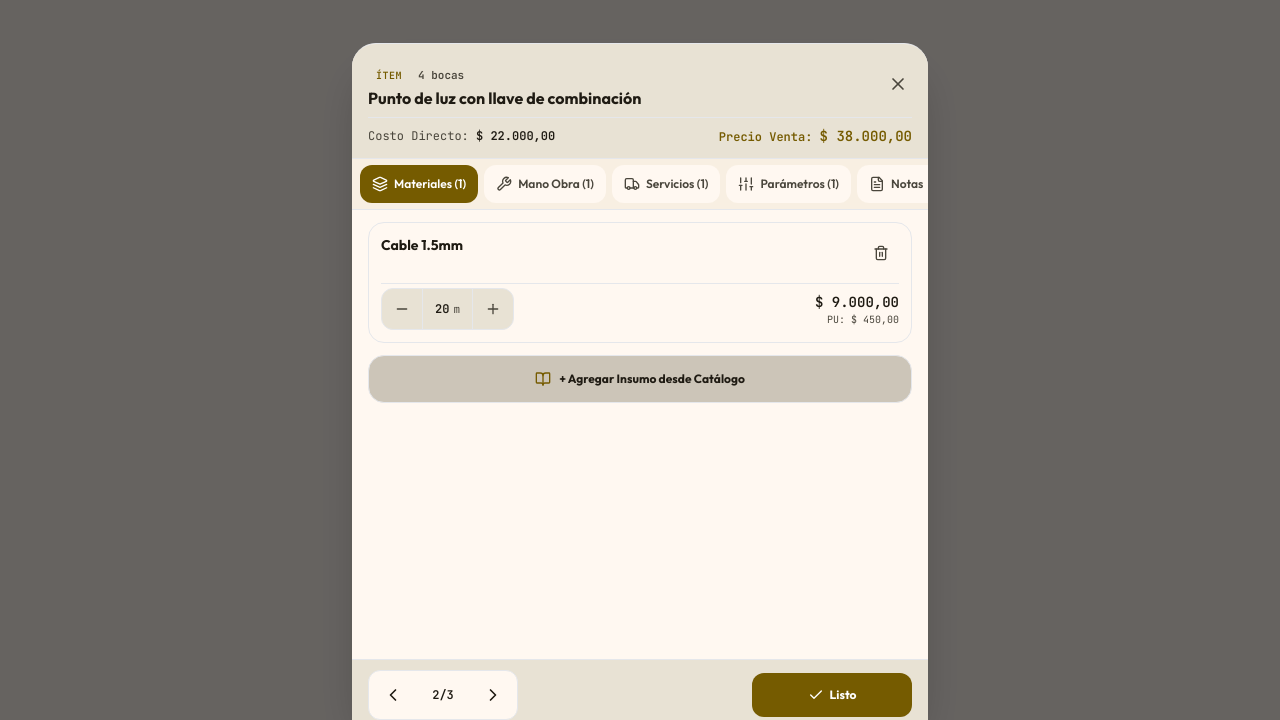
Scenario: MobileItemDetailSheet › permite alternar entre pestañas y muestra el contenido de cada una
Expected: the heading "Cable 1.5mm" is shown, [381,236,463,254]
Cambiar a Mano de Obra
Click the button "Mano Obra (1)" at [545, 184], box [484,165,606,203]
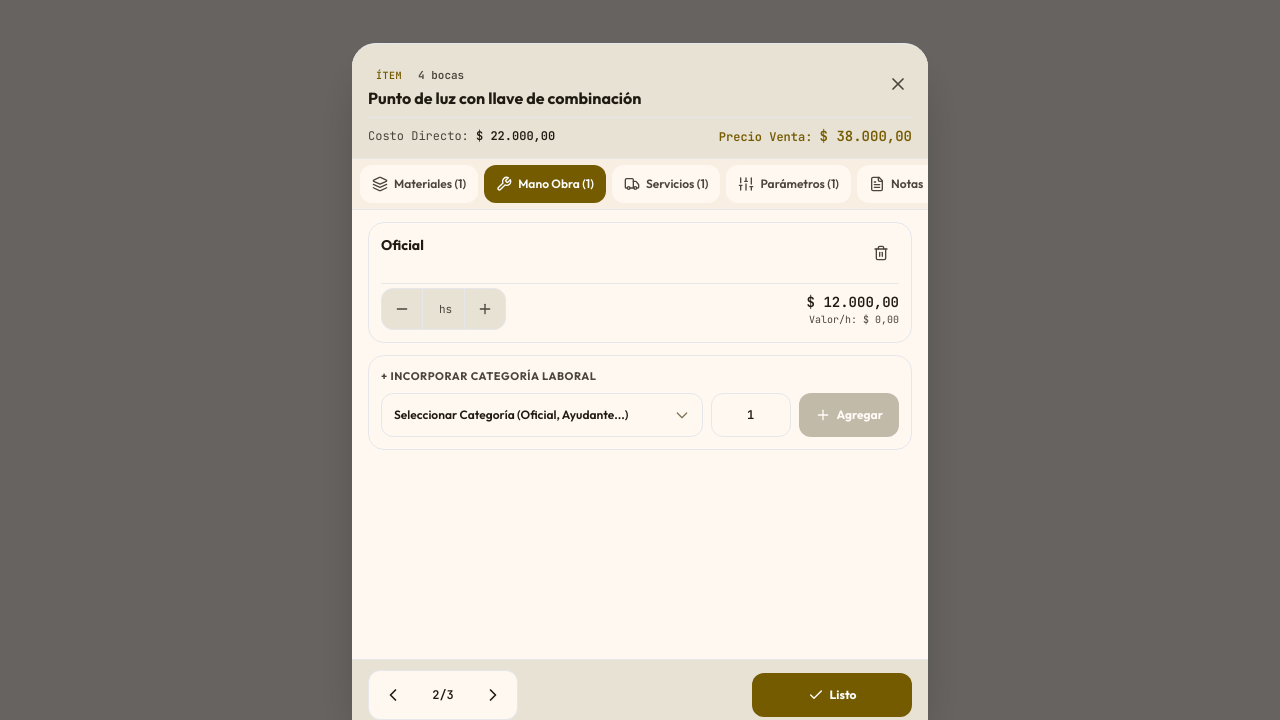
Result: the heading "Oficial" is shown at [381,236,424,254]
Cambiar a Servicios
Click the button "Servicios (1)" at [666, 184], box [612,165,720,203]
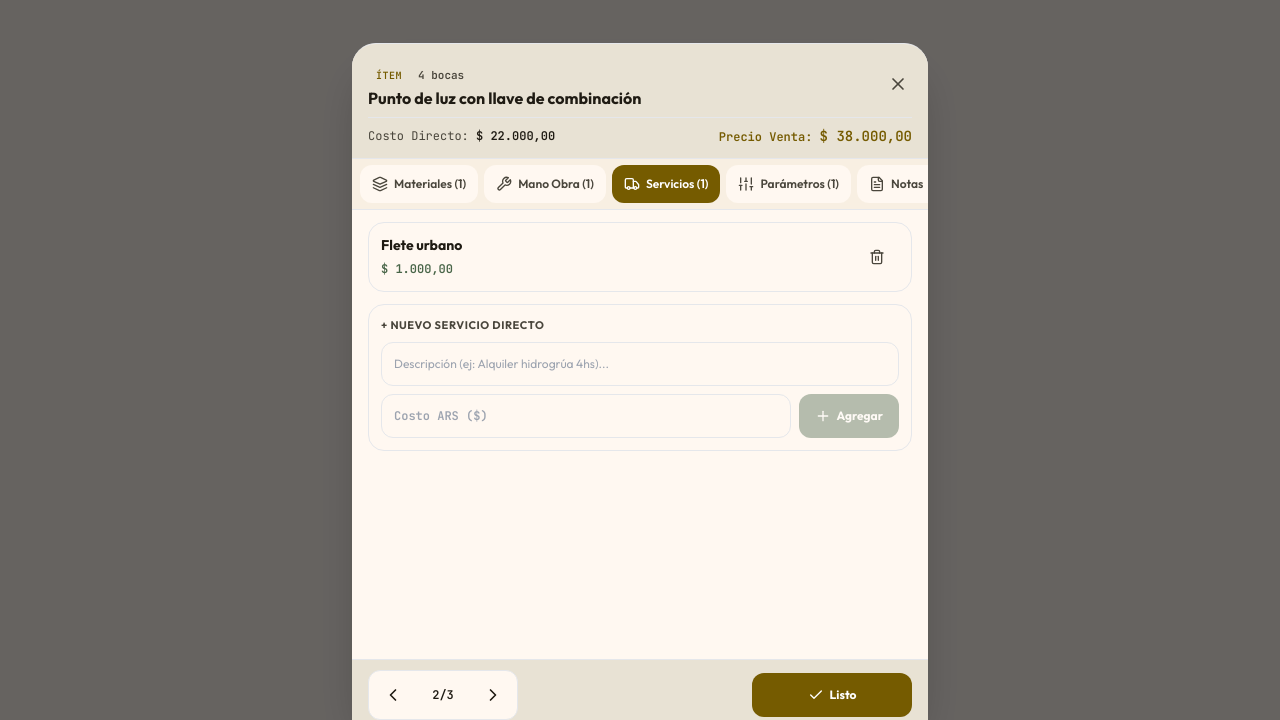
Result: the heading "Flete urbano" is shown at [381,236,462,254]
Cambiar a Parámetros
Click the button "Parámetros (1)" at [789, 184], box [726,165,851,203]
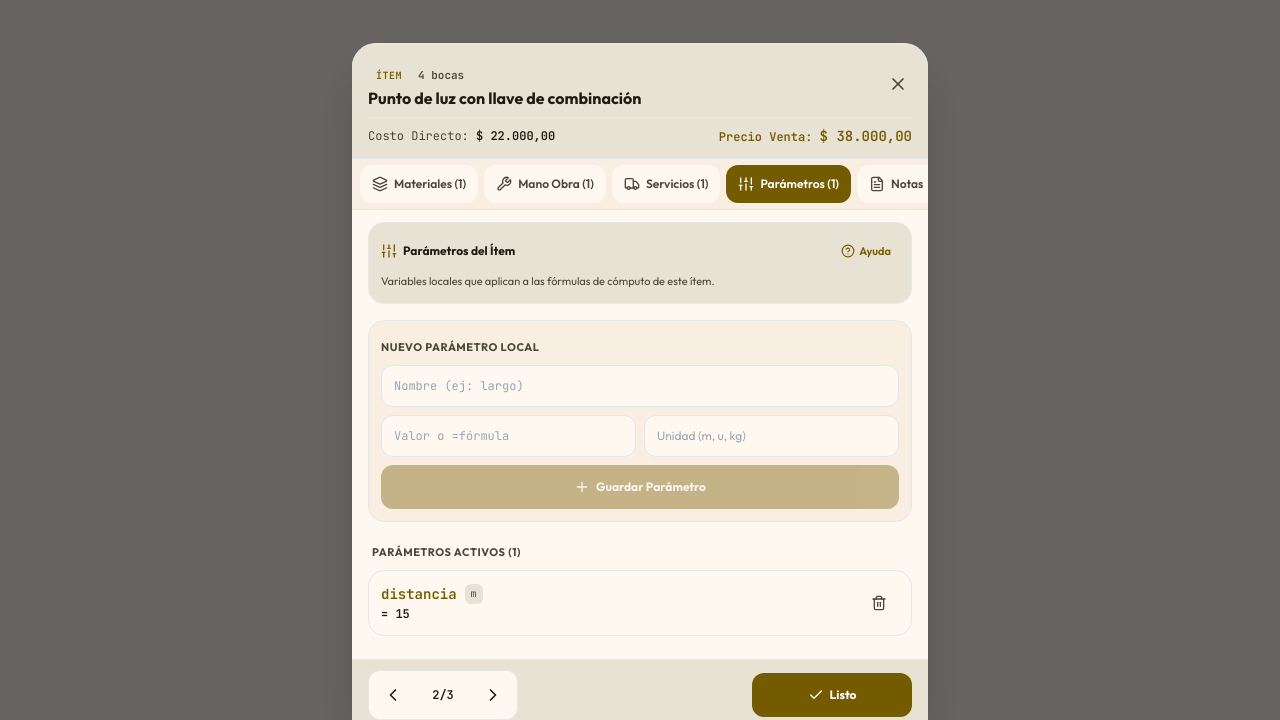
Result: the text "distancia" is shown at [381,584,457,604]
Cambiar a Notas
Click the button "Notas" at [902, 184], box [857,165,947,203]
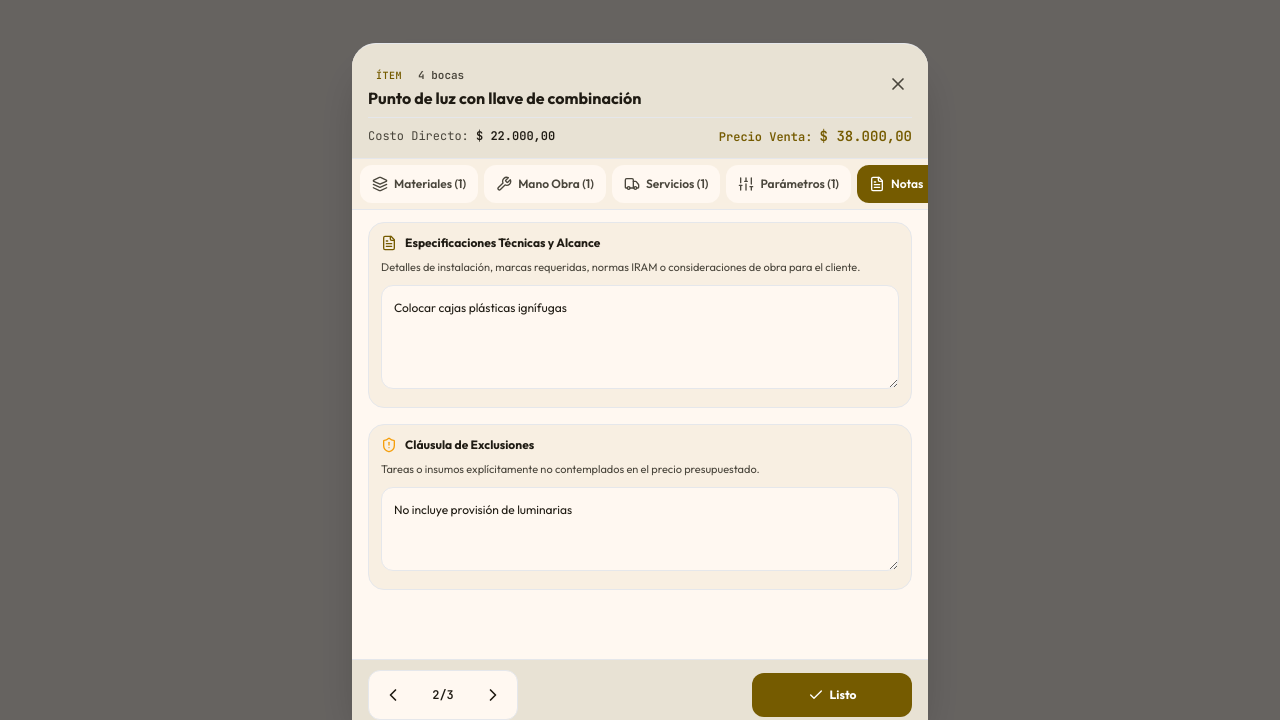
Result: the text box showing "Colocar cajas plásticas ignífugas" is shown at [381,285,899,389]
Result: the text box showing "No incluye provisión de luminarias" is shown at [381,487,899,572]
